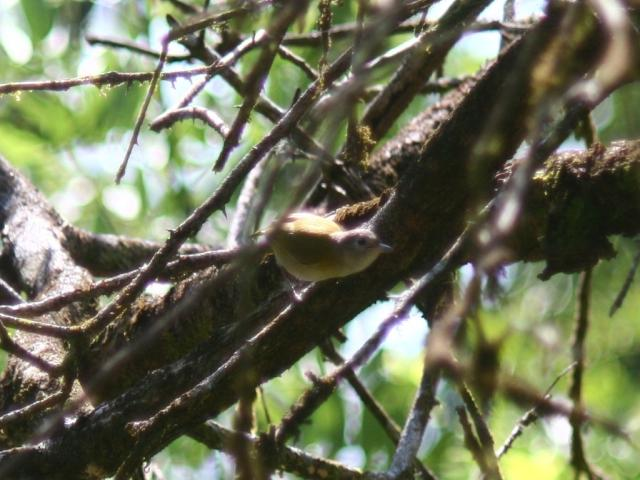Bird: (246, 208, 396, 321)
